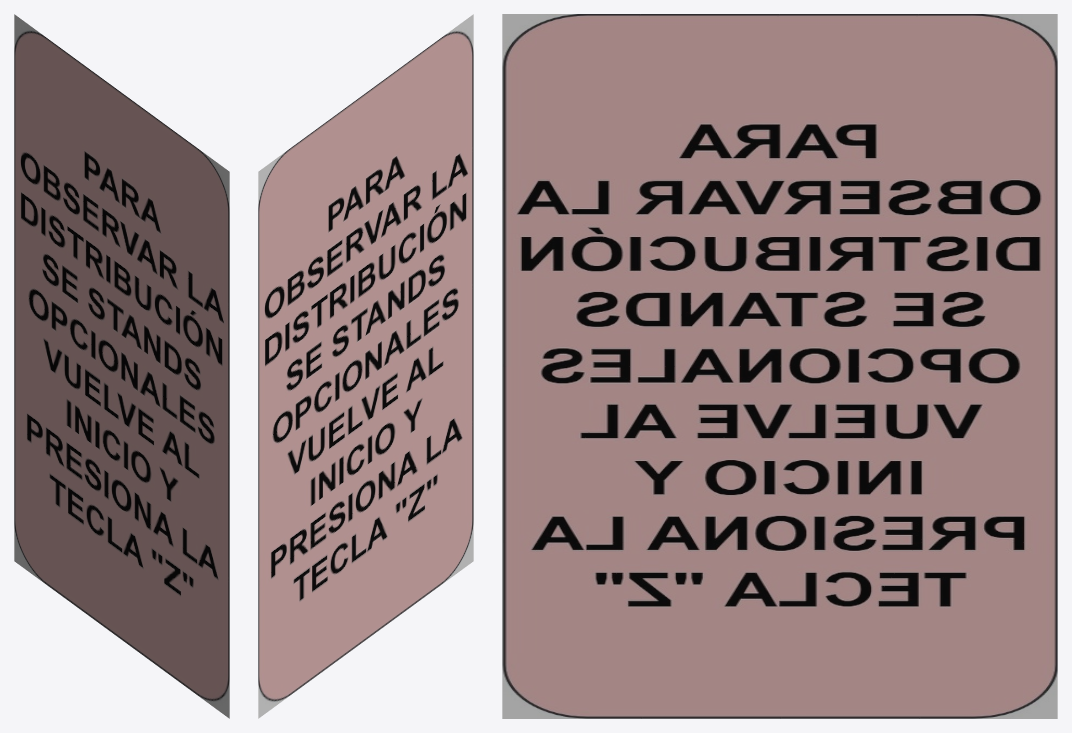
Rendered from Cartel8.obj.
3 views of the same model, side by side, from view 1: azimuth 30°, elevation 25°; view 2: azimuth 150°, elevation 25°; view 3: azimuth 270°, elevation 25° (orthographic). The views are drawn at different scales.
Visible parts, largest first — view 1: Cartel8; view 2: Cartel8; view 3: Cartel8.
Boxes of the visible parts, x1=… form: Cartel8: x1=14, y1=14, x2=229, y2=718; Cartel8: x1=258, y1=14, x2=473, y2=718; Cartel8: x1=502, y1=14, x2=1057, y2=718.
Size of the model in its own units: 0 by 2.8 by 2.
1 material, 1 textured.
